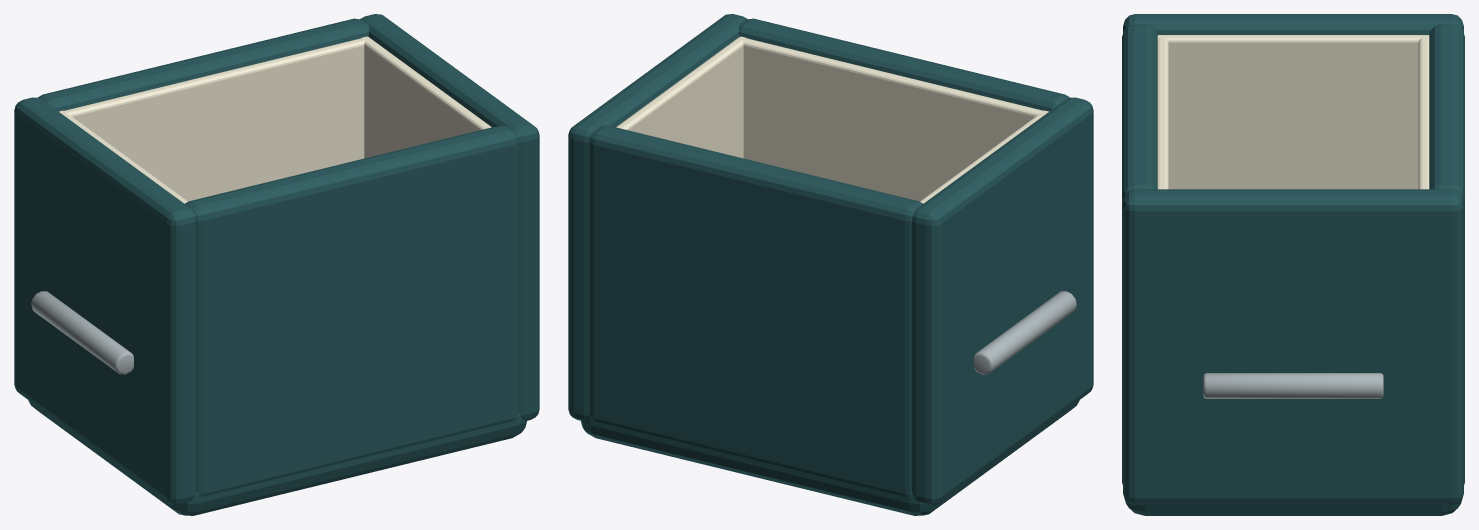
The model's file is cooler.glb.
3 renders of one model, left to right at view 1: azimuth 30°, elevation 25°; view 2: azimuth 150°, elevation 25°; view 3: azimuth 270°, elevation 25°, orthographic. The views are drawn at different scales.
Visible parts, largest first — view 1: Deep teal enamel.003, Warm porcelain.003, Brushed stainless.003; view 2: Deep teal enamel.003, Warm porcelain.003, Brushed stainless.003; view 3: Deep teal enamel.003, Warm porcelain.003, Brushed stainless.003.
Part boxes in pixels (left/top/right/bottom): Deep teal enamel.003: left=14, top=14, right=539, bottom=515; Warm porcelain.003: left=59, top=36, right=491, bottom=203; Brushed stainless.003: left=31, top=291, right=133, bottom=374; Deep teal enamel.003: left=568, top=14, right=1093, bottom=515; Warm porcelain.003: left=616, top=36, right=1048, bottom=203; Brushed stainless.003: left=974, top=291, right=1076, bottom=374; Deep teal enamel.003: left=1122, top=14, right=1464, bottom=515; Warm porcelain.003: left=1157, top=35, right=1429, bottom=189; Brushed stainless.003: left=1203, top=373, right=1383, bottom=398.
Bounding box in the file's own units: 0.494 × 0.36 × 0.342.
